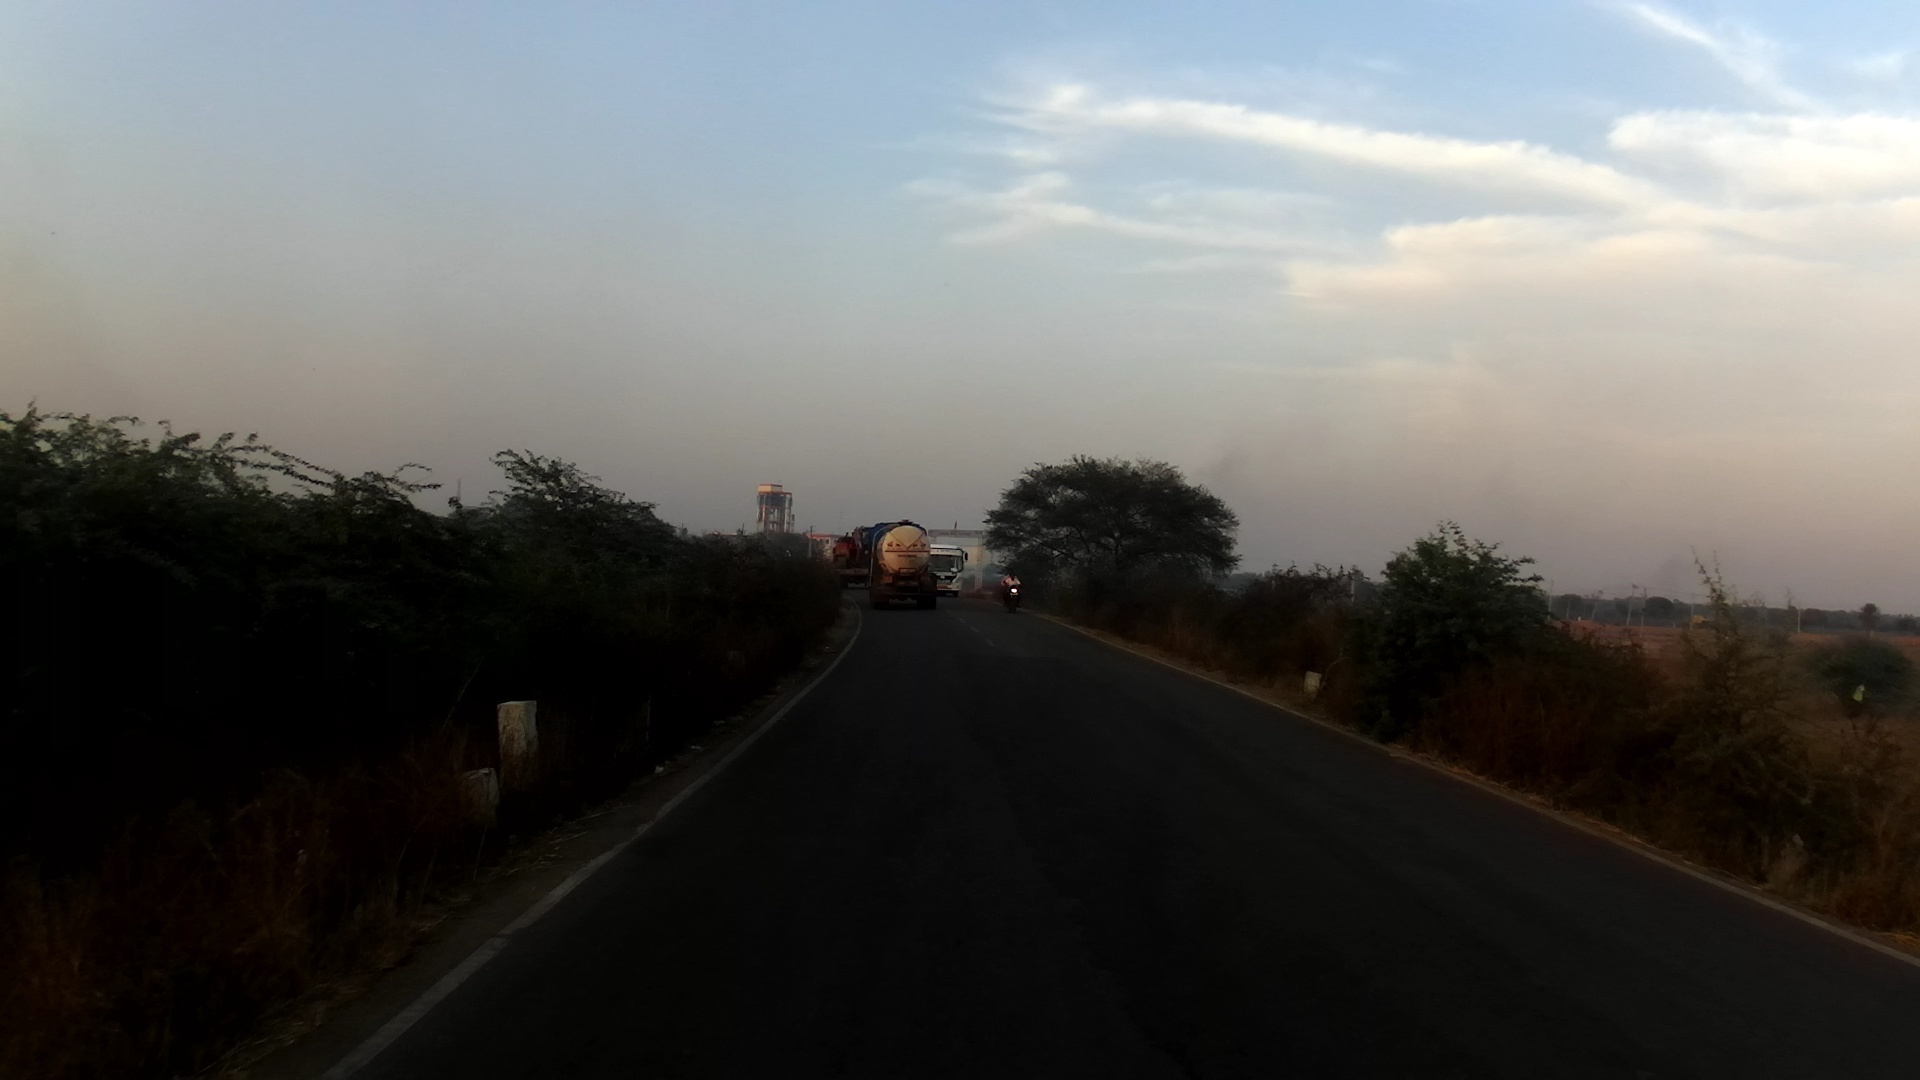bus: (930, 541, 972, 606)
motorcycle: (1006, 587, 1026, 613)
rider: (1001, 568, 1023, 600)
truck: (857, 523, 938, 609), (828, 530, 877, 592)
